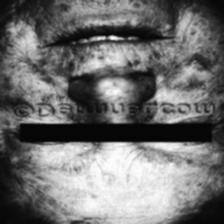Non-Cancerous Skin Condition: (167, 57, 212, 89), (0, 17, 15, 55), (68, 60, 74, 67)
